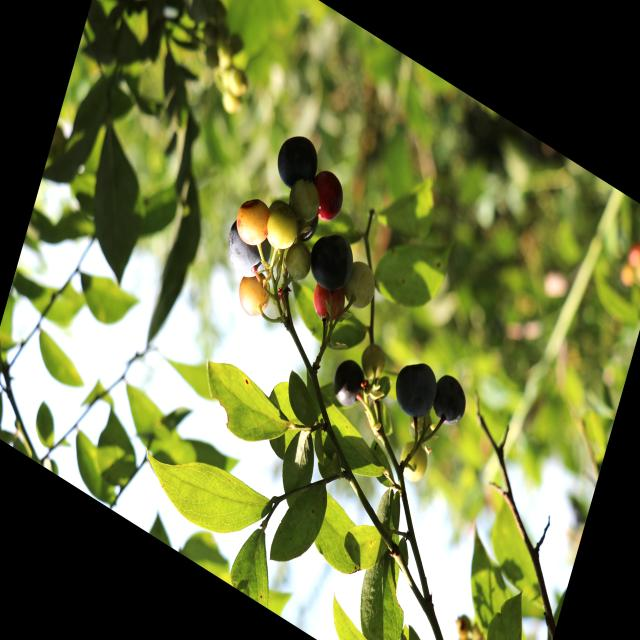blueberry: (221, 211, 280, 293), (270, 124, 326, 204), (387, 346, 442, 427), (304, 220, 358, 300), (423, 362, 475, 438), (328, 350, 371, 414)
blueberry-halfripe: (310, 163, 348, 227), (308, 276, 347, 328)
blueberry-unripe: (234, 261, 277, 325), (230, 191, 273, 253), (340, 255, 380, 316), (263, 198, 301, 255), (398, 437, 434, 489), (287, 175, 322, 225), (281, 238, 314, 286), (359, 343, 387, 383)
